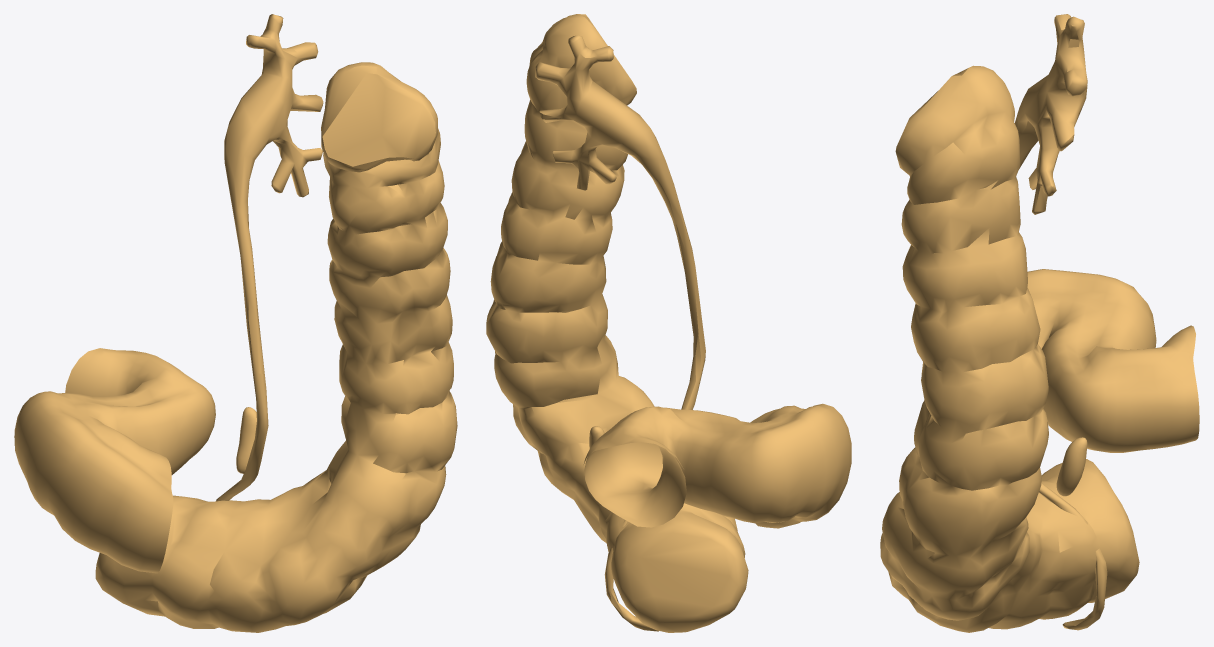
File: fossa-iliaca-esquerda.glb
The picture shows the model from 3 angles, left to right: view 1: azimuth 30°, elevation 25°; view 2: azimuth 150°, elevation 25°; view 3: azimuth 270°, elevation 25°; orthographic projection. The views are drawn at different scales.
Parts seen in each view (by area): view 1: colon-descendente, colon-sigmoide, ureter-esquerdo, ovario-esquerdo; view 2: colon-descendente, colon-sigmoide, ureter-esquerdo; view 3: colon-descendente, colon-sigmoide, ureter-esquerdo, ovario-esquerdo.
Part boxes in pixels (left/top/right/bottom): colon-descendente: left=95, top=62, right=457, bottom=632; colon-sigmoide: left=14, top=348, right=215, bottom=573; ureter-esquerdo: left=216, top=14, right=323, bottom=501; ovario-esquerdo: left=236, top=407, right=256, bottom=473; colon-descendente: left=486, top=14, right=748, bottom=632; colon-sigmoide: left=583, top=403, right=851, bottom=528; ureter-esquerdo: left=535, top=35, right=705, bottom=631; colon-descendente: left=880, top=65, right=1139, bottom=632; colon-sigmoide: left=1027, top=269, right=1199, bottom=452; ureter-esquerdo: left=1014, top=14, right=1107, bottom=630; ovario-esquerdo: left=1056, top=437, right=1087, bottom=496.
Bounding box in the file's own units: 0.1707 × 0.2545 × 0.1125.
